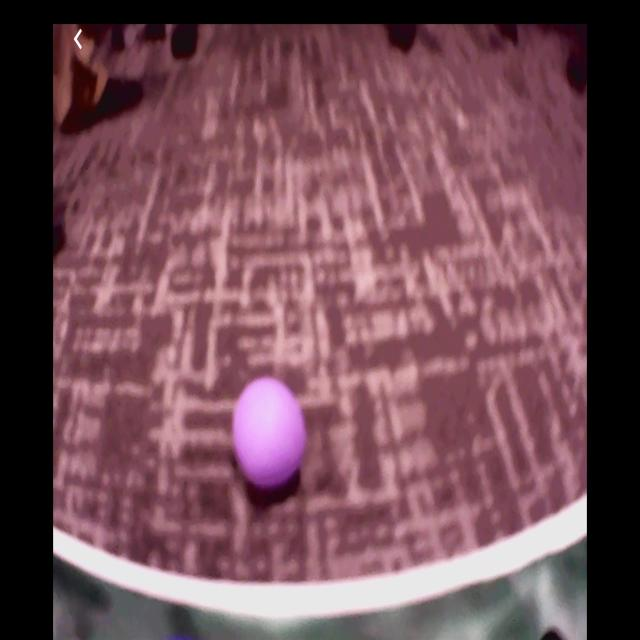ball: (235, 378, 307, 489)
